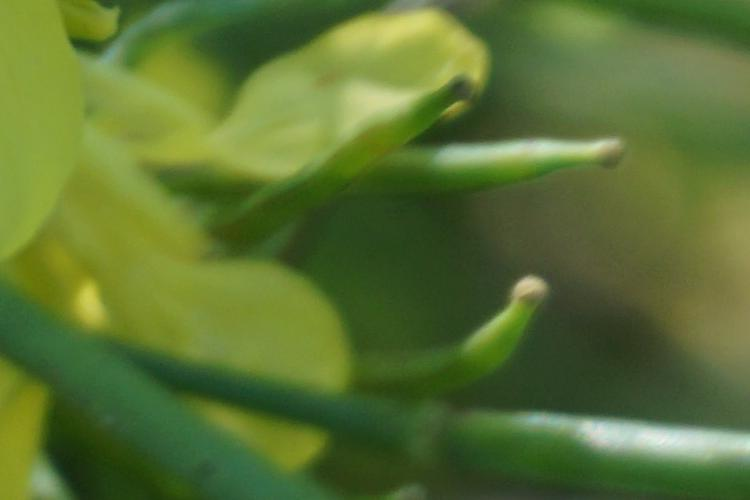pod: (207, 56, 475, 277), (172, 112, 660, 214), (315, 259, 549, 404)
yellow: (12, 87, 344, 465), (1, 3, 497, 187)
